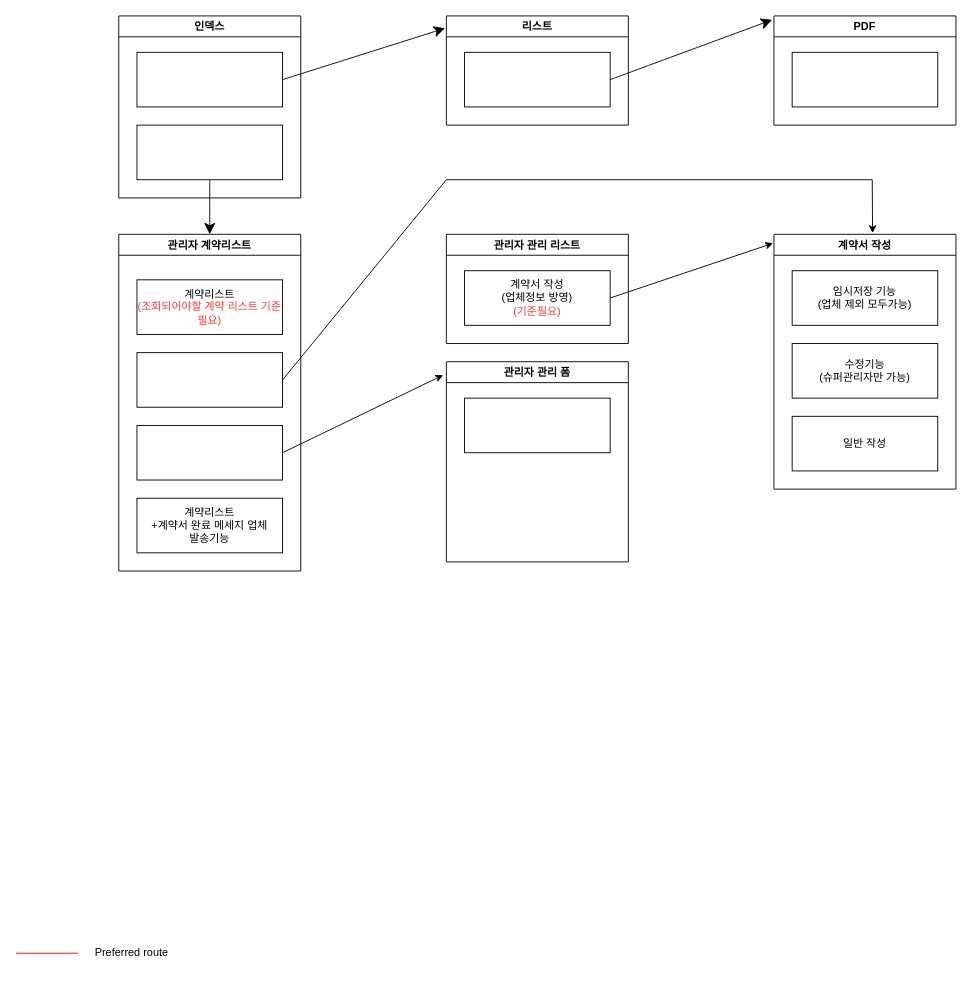
The diagram is 972 pixels wide and 985 high, and some of its shapes have lost their labels. The shapes that lost their labels are listed below. From the top down, each one's centre as x and y in pixels, then its label:
point 209,79: 업체 사업자/매니저번호 등록 후 조회기능
point 537,79: 계약 정보 ( 노출 될 정보 추가 요청 ) + 보기버튼
point 864,79: 계약 ID로 조회해서 계약정보 노출
point 209,152: 관리자 페이지로 링크이동
point 209,379: 작성하기 (영업자 정보기입)
point 537,425: 업체정보
point 209,452: 계약리스트 +업체정보 확인
